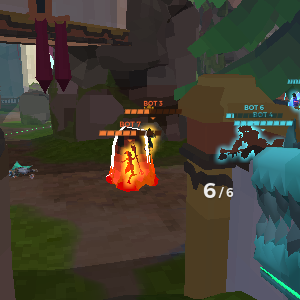model: (118, 141, 142, 186), (144, 120, 158, 152)
